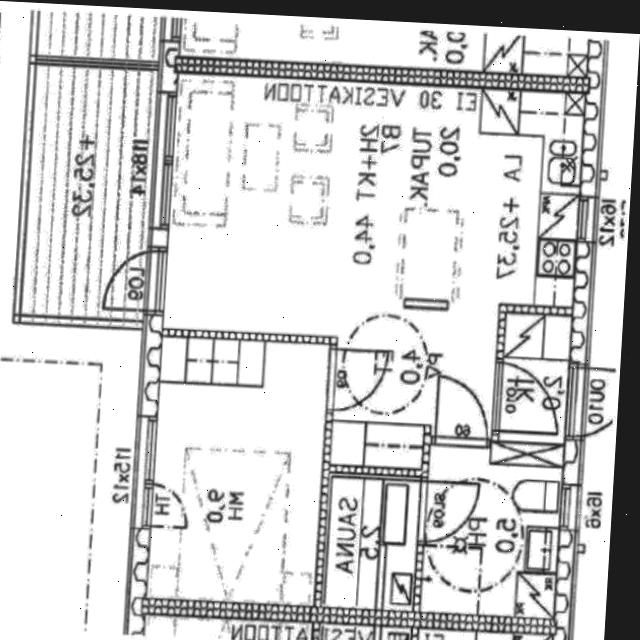room: (146, 333, 330, 607), (420, 444, 563, 619), (325, 476, 420, 611), (499, 312, 572, 444)
